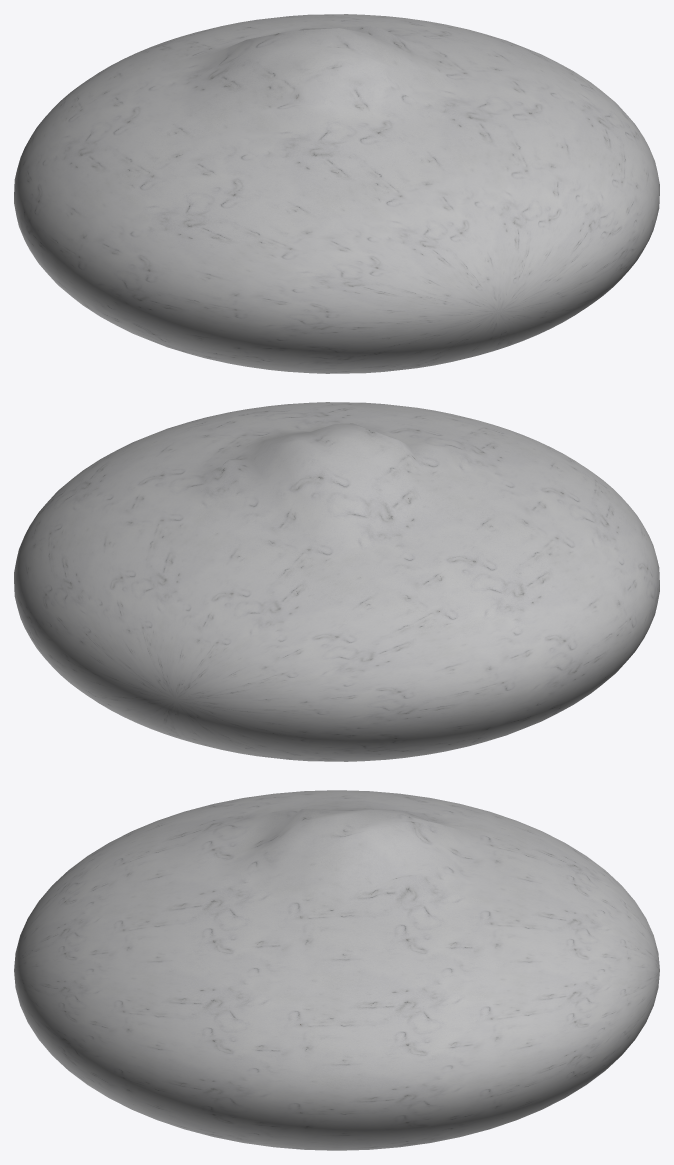
The model's file is Snohaug2.glb.
3 renders of one model, top to bottom at view 1: azimuth 30°, elevation 25°; view 2: azimuth 150°, elevation 25°; view 3: azimuth 270°, elevation 25°, orthographic.
Visible parts, largest first — view 1: Sphere.001; view 2: Sphere.001; view 3: Sphere.001.
Part boxes in pixels (left/top/right/bottom): Sphere.001: left=14, top=14, right=659, bottom=373; Sphere.001: left=14, top=402, right=659, bottom=761; Sphere.001: left=14, top=790, right=659, bottom=1150.
Bounding box in the file's own units: 2 × 0.9136 × 2.
Materials: 1 (1 with a texture image).
